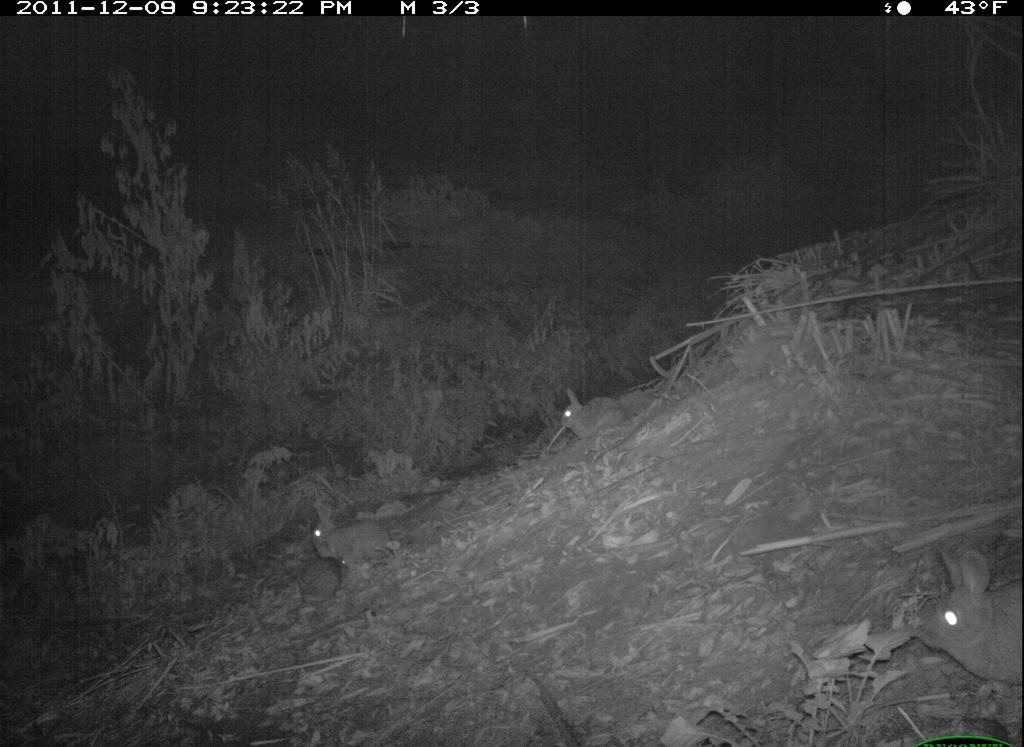rabbit: (918, 542, 1023, 692), (303, 493, 404, 580), (555, 382, 639, 451)
